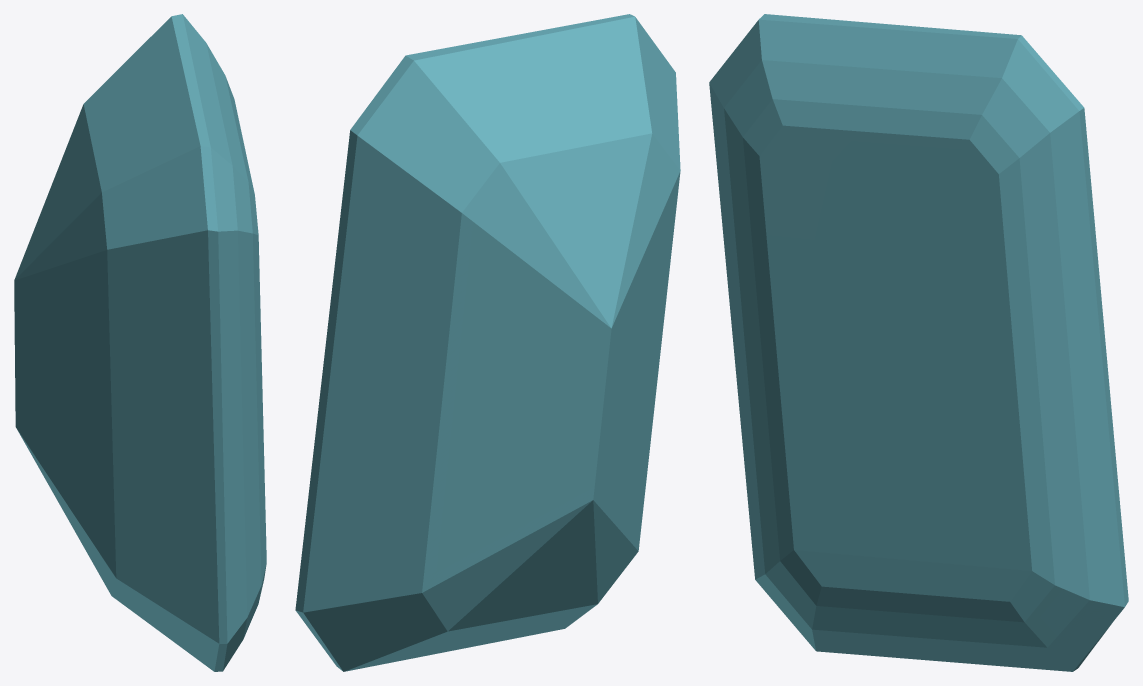
Rendered from BR5_8shapes_Emerald_Classic_Stone.001 2.glb.
The picture shows the model from 3 angles, left to right: view 1: azimuth 30°, elevation 25°; view 2: azimuth 150°, elevation 25°; view 3: azimuth 270°, elevation 25°; orthographic projection. The views are drawn at different scales.
Parts seen in each view (by area): view 1: BR5_8shapes_Emerald_Classic_Stone.001; view 2: BR5_8shapes_Emerald_Classic_Stone.001; view 3: BR5_8shapes_Emerald_Classic_Stone.001.
Part boxes in pixels (left/top/right/bottom): BR5_8shapes_Emerald_Classic_Stone.001: left=14, top=14, right=266, bottom=671; BR5_8shapes_Emerald_Classic_Stone.001: left=295, top=14, right=680, bottom=671; BR5_8shapes_Emerald_Classic_Stone.001: left=709, top=14, right=1128, bottom=671.
Size of the model in its own units: 0.2595 by 0.5857 by 0.348.
